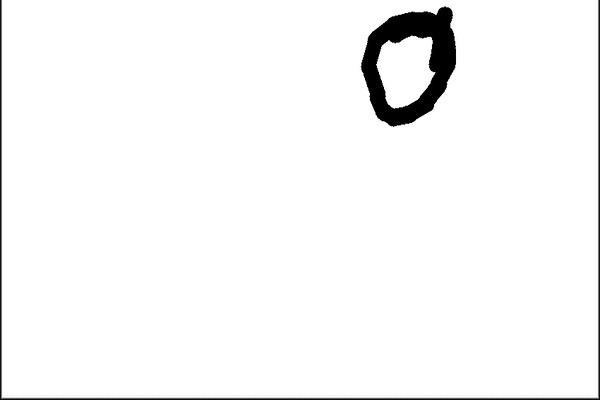O: (350, 1, 463, 135)
